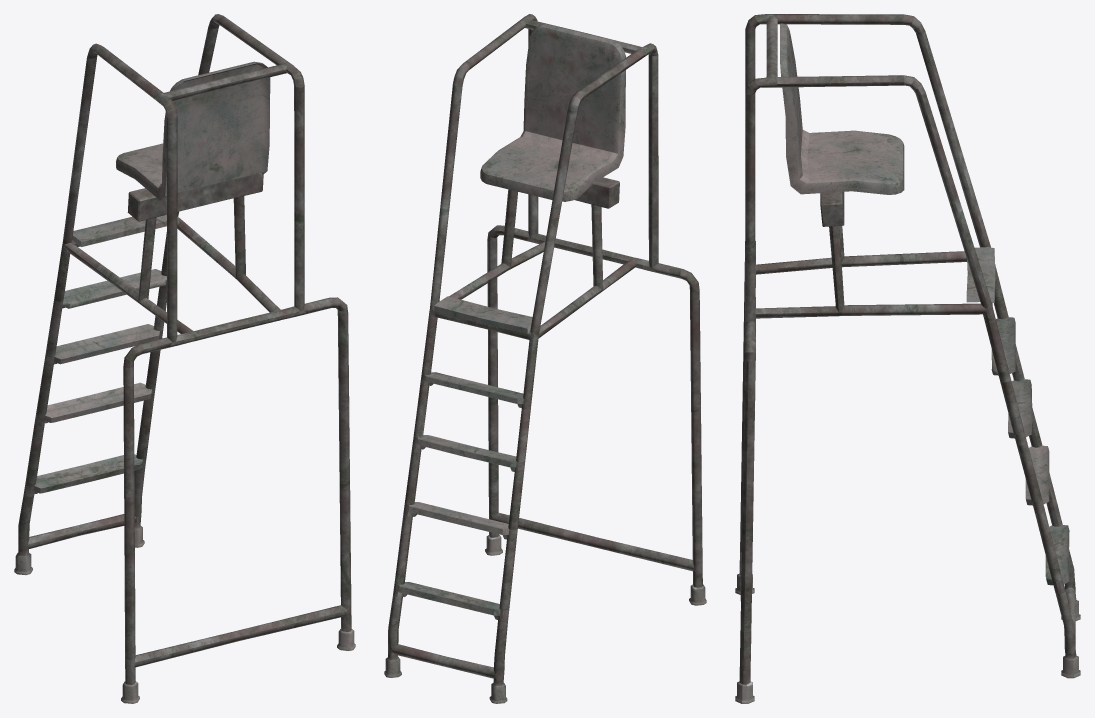
File: lifeguard_chair_optimised.glb
3 views of the same model, side by side, from view 1: azimuth 30°, elevation 25°; view 2: azimuth 150°, elevation 25°; view 3: azimuth 270°, elevation 25° (orthographic). The views are drawn at different scales.
Parts seen in each view (by area): view 1: prop; view 2: prop; view 3: prop.
Boxes of the visible parts, x1,y1,x2,y2 form: prop: (14, 14, 355, 703); prop: (384, 14, 706, 703); prop: (735, 14, 1080, 703).
Size of the model in its own units: 0.9481 by 2.31 by 1.19.
Materials: 1 (1 with a texture image).
